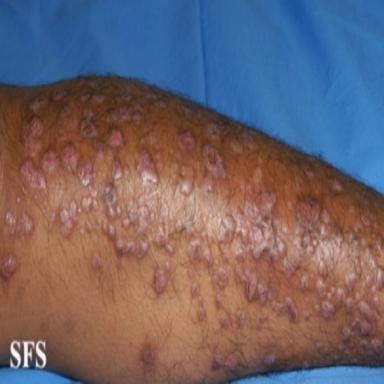Epidermolysis-Bullosa-Pruriginosa: (217, 168, 285, 260), (295, 199, 357, 276), (122, 199, 157, 240), (363, 249, 384, 290), (235, 266, 257, 302), (203, 144, 225, 178), (25, 117, 43, 157), (21, 161, 46, 189), (137, 151, 157, 183), (271, 298, 297, 322), (60, 201, 77, 237), (211, 350, 237, 372), (155, 225, 173, 252), (81, 109, 97, 138), (0, 255, 17, 279), (104, 185, 116, 218), (180, 165, 193, 195), (43, 151, 59, 173), (63, 145, 77, 170), (185, 218, 203, 237), (78, 162, 91, 186), (29, 96, 48, 112), (205, 122, 221, 141), (188, 239, 200, 263), (179, 132, 195, 150), (155, 268, 166, 294), (283, 256, 295, 279), (321, 300, 335, 319), (5, 211, 16, 234), (359, 302, 372, 320), (242, 132, 255, 150), (108, 130, 122, 146), (137, 239, 148, 259), (154, 149, 163, 173), (257, 283, 267, 304), (344, 272, 355, 291), (103, 222, 115, 239), (23, 214, 33, 234), (143, 348, 155, 364), (119, 106, 131, 122), (113, 161, 122, 181), (52, 89, 67, 101), (231, 138, 242, 154), (201, 229, 212, 245), (203, 247, 212, 266), (218, 268, 227, 287), (115, 238, 125, 255), (331, 179, 343, 193), (371, 339, 383, 353), (203, 175, 212, 193), (91, 254, 101, 270), (317, 278, 325, 298), (125, 241, 136, 255), (304, 166, 314, 181), (220, 312, 229, 328), (337, 288, 346, 304), (360, 322, 370, 336), (373, 295, 381, 312), (264, 355, 275, 367), (237, 311, 245, 327), (191, 282, 199, 298), (346, 298, 354, 314), (161, 201, 169, 217), (60, 106, 71, 117), (197, 307, 205, 322), (107, 112, 117, 124), (49, 211, 55, 230), (355, 256, 361, 275), (93, 94, 104, 104), (361, 215, 371, 226), (352, 318, 361, 330), (83, 197, 91, 210), (342, 327, 350, 340), (97, 142, 103, 159), (293, 177, 299, 194), (235, 249, 245, 259), (215, 294, 222, 308), (301, 275, 308, 288), (149, 132, 156, 145), (376, 238, 383, 250), (175, 219, 182, 231), (133, 113, 140, 125), (122, 93, 131, 102), (337, 343, 345, 353), (257, 315, 263, 328), (86, 221, 92, 233), (80, 94, 89, 102), (366, 275, 372, 286), (314, 303, 320, 314), (96, 215, 102, 226), (303, 311, 310, 320), (212, 275, 217, 287), (240, 178, 245, 190), (360, 340, 367, 348), (165, 260, 170, 271), (116, 206, 121, 217), (125, 166, 130, 177), (188, 268, 193, 278), (92, 199, 97, 209), (91, 190, 97, 198), (357, 221, 363, 229), (355, 291, 360, 300), (371, 284, 376, 292), (140, 137, 145, 145), (327, 292, 331, 300), (331, 287, 335, 295), (17, 195, 20, 205), (361, 238, 365, 245), (78, 206, 81, 213), (89, 185, 91, 191)
